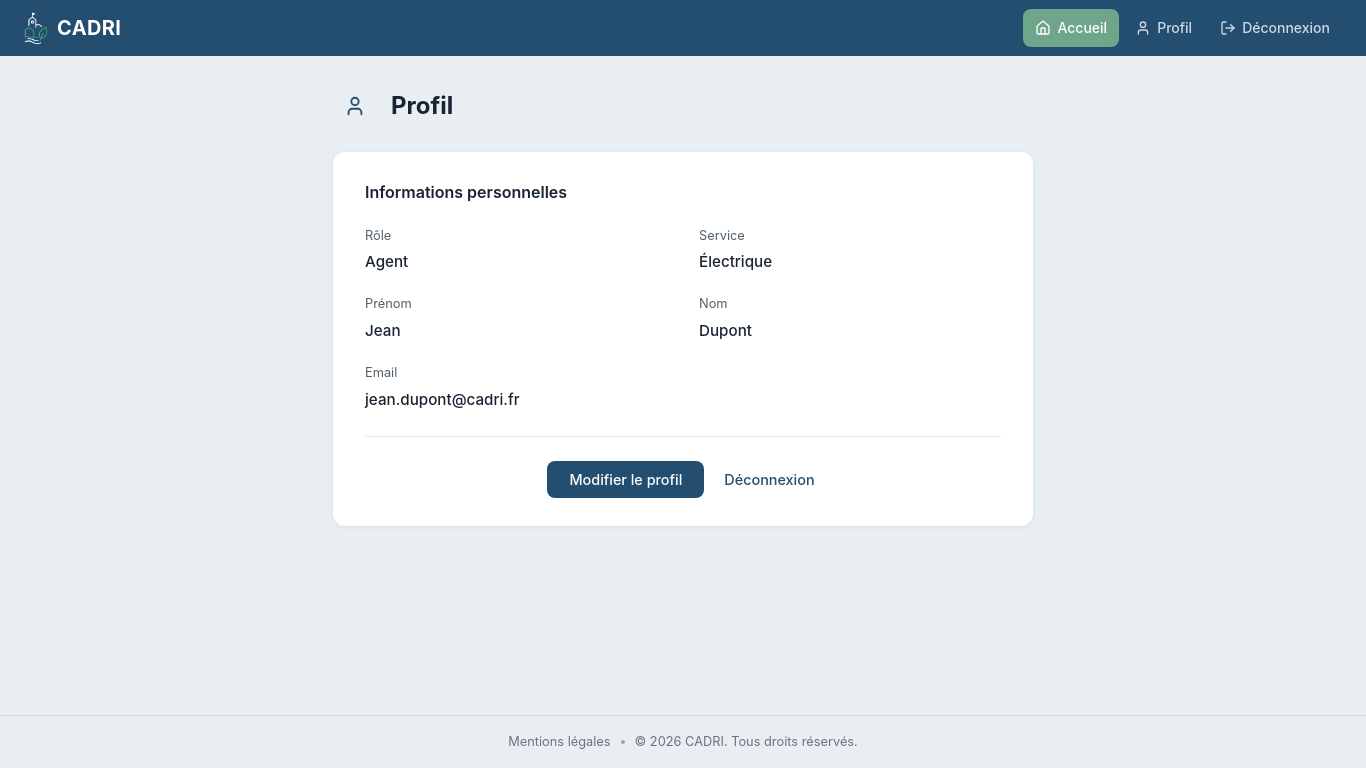
it: ProfilePage — changement de mot de passe › cliquer sur l'icône info ouvre la pop-up des exigences du mot de passe
Click the button "Modifier le profil": (626, 479) [547,461,704,498]
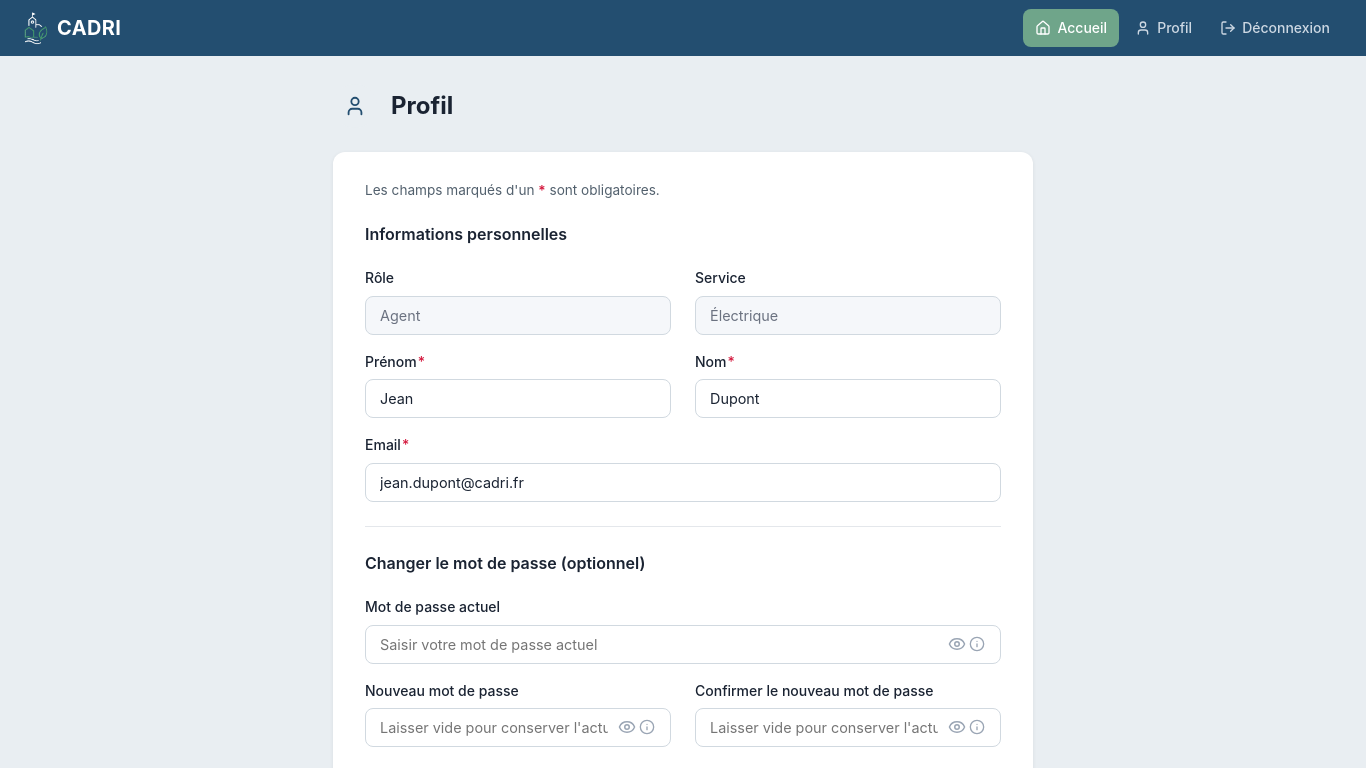
Click the 1st button named "voir les exigences du mot de passe": (977, 644) [965,632,989,656]
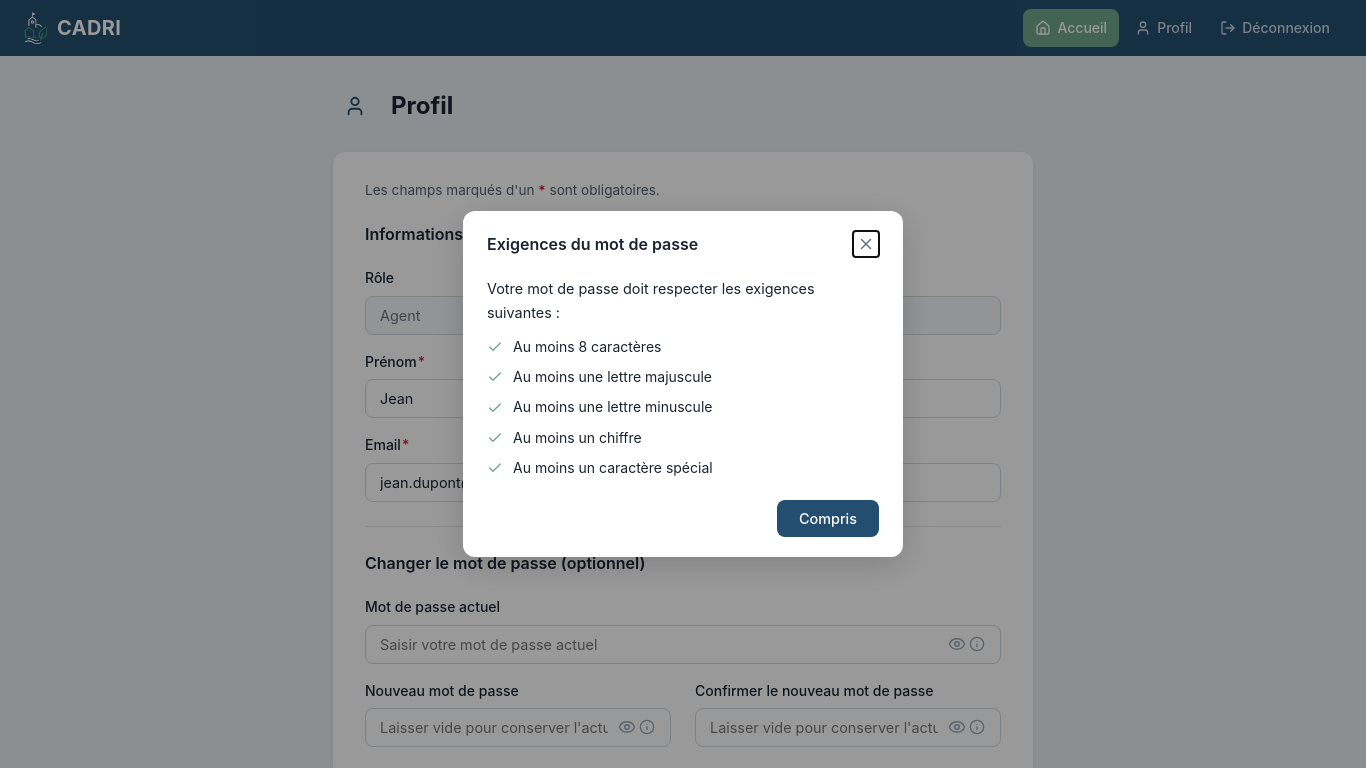
Now the text "Exigences du mot de passe" is shown, box [487,232,698,257]
